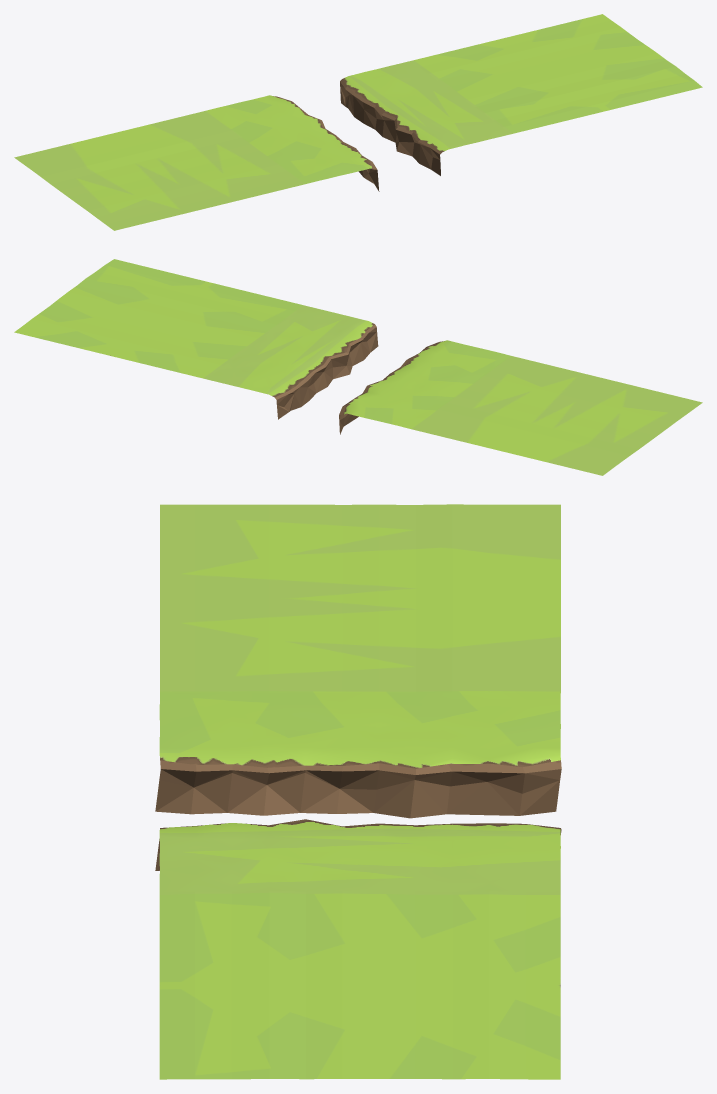
Rendered from side_ground_01.FBX.
3 renders of one model, top to bottom at view 1: azimuth 30°, elevation 25°; view 2: azimuth 150°, elevation 25°; view 3: azimuth 270°, elevation 25°, orthographic. The views are drawn at different scales.
Parts seen in each view (by area): view 1: polySurface1, polySurface2; view 2: polySurface1, polySurface2; view 3: polySurface2, polySurface1.
Boxes of the visible parts, <box> form: polySurface1: <box>340,14,702,175</box>; polySurface2: <box>14,95,379,230</box>; polySurface1: <box>14,259,378,419</box>; polySurface2: <box>339,340,702,475</box>; polySurface2: <box>155,504,561,818</box>; polySurface1: <box>155,819,561,1079</box>.
Bounding box in the file's own units: 1154 × 47.22 × 345.
